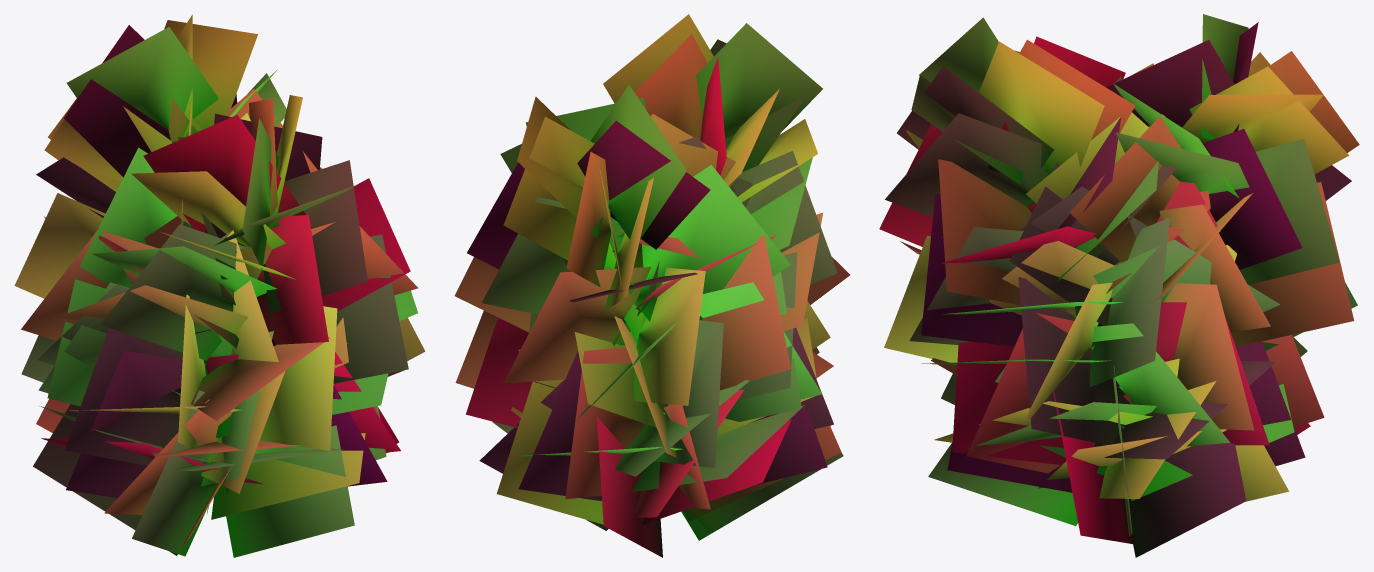
Rendered from TreeBush_V.fbx.
3 renders of one model, left to right at view 1: azimuth 30°, elevation 25°; view 2: azimuth 150°, elevation 25°; view 3: azimuth 270°, elevation 25°, orthographic. The views are drawn at different scales.
Parts seen in each view (by area): view 1: Tree_0; view 2: Tree_0; view 3: Tree_0.
Part boxes in pixels (left/top/right/bottom): Tree_0: left=14, top=14, right=425, bottom=557; Tree_0: left=454, top=14, right=849, bottom=557; Tree_0: left=879, top=14, right=1359, bottom=557.
Size of the model in its own units: 82.34 by 115 by 97.42.
